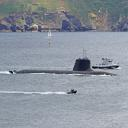submarine: (10, 47, 118, 77)
